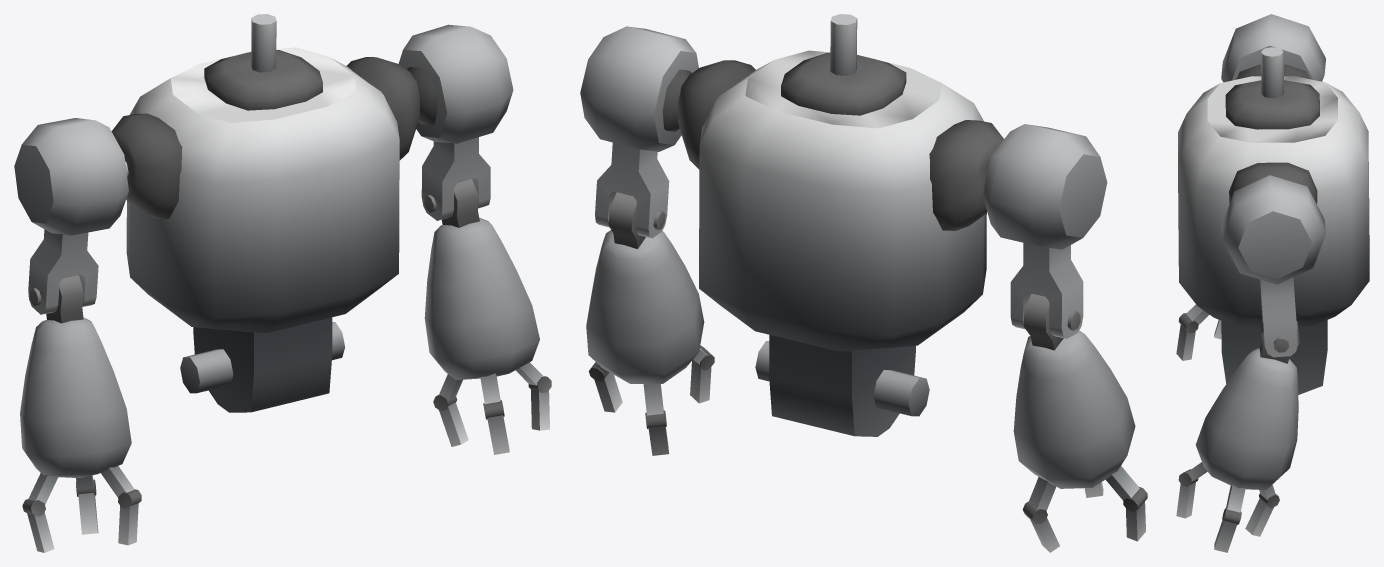
The model's file is robot torso 1.fbx.
The picture shows the model from 3 angles, left to right: view 1: azimuth 30°, elevation 25°; view 2: azimuth 150°, elevation 25°; view 3: azimuth 270°, elevation 25°; orthographic projection. The views are drawn at different scales.
Parts seen in each view (by area): view 1: R1_Arm.R; view 2: R1_Arm.R; view 3: R1_Arm.R.
Boxes of the visible parts, x1,y1,x2,y2 form: R1_Arm.R: [14, 14, 551, 552]; R1_Arm.R: [580, 14, 1147, 552]; R1_Arm.R: [1176, 14, 1369, 552].
Size of the model in its own units: 1.06 by 0.9018 by 0.3901.
